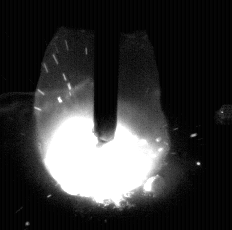arame: (94, 0, 119, 145)
poca: (36, 0, 172, 230)
